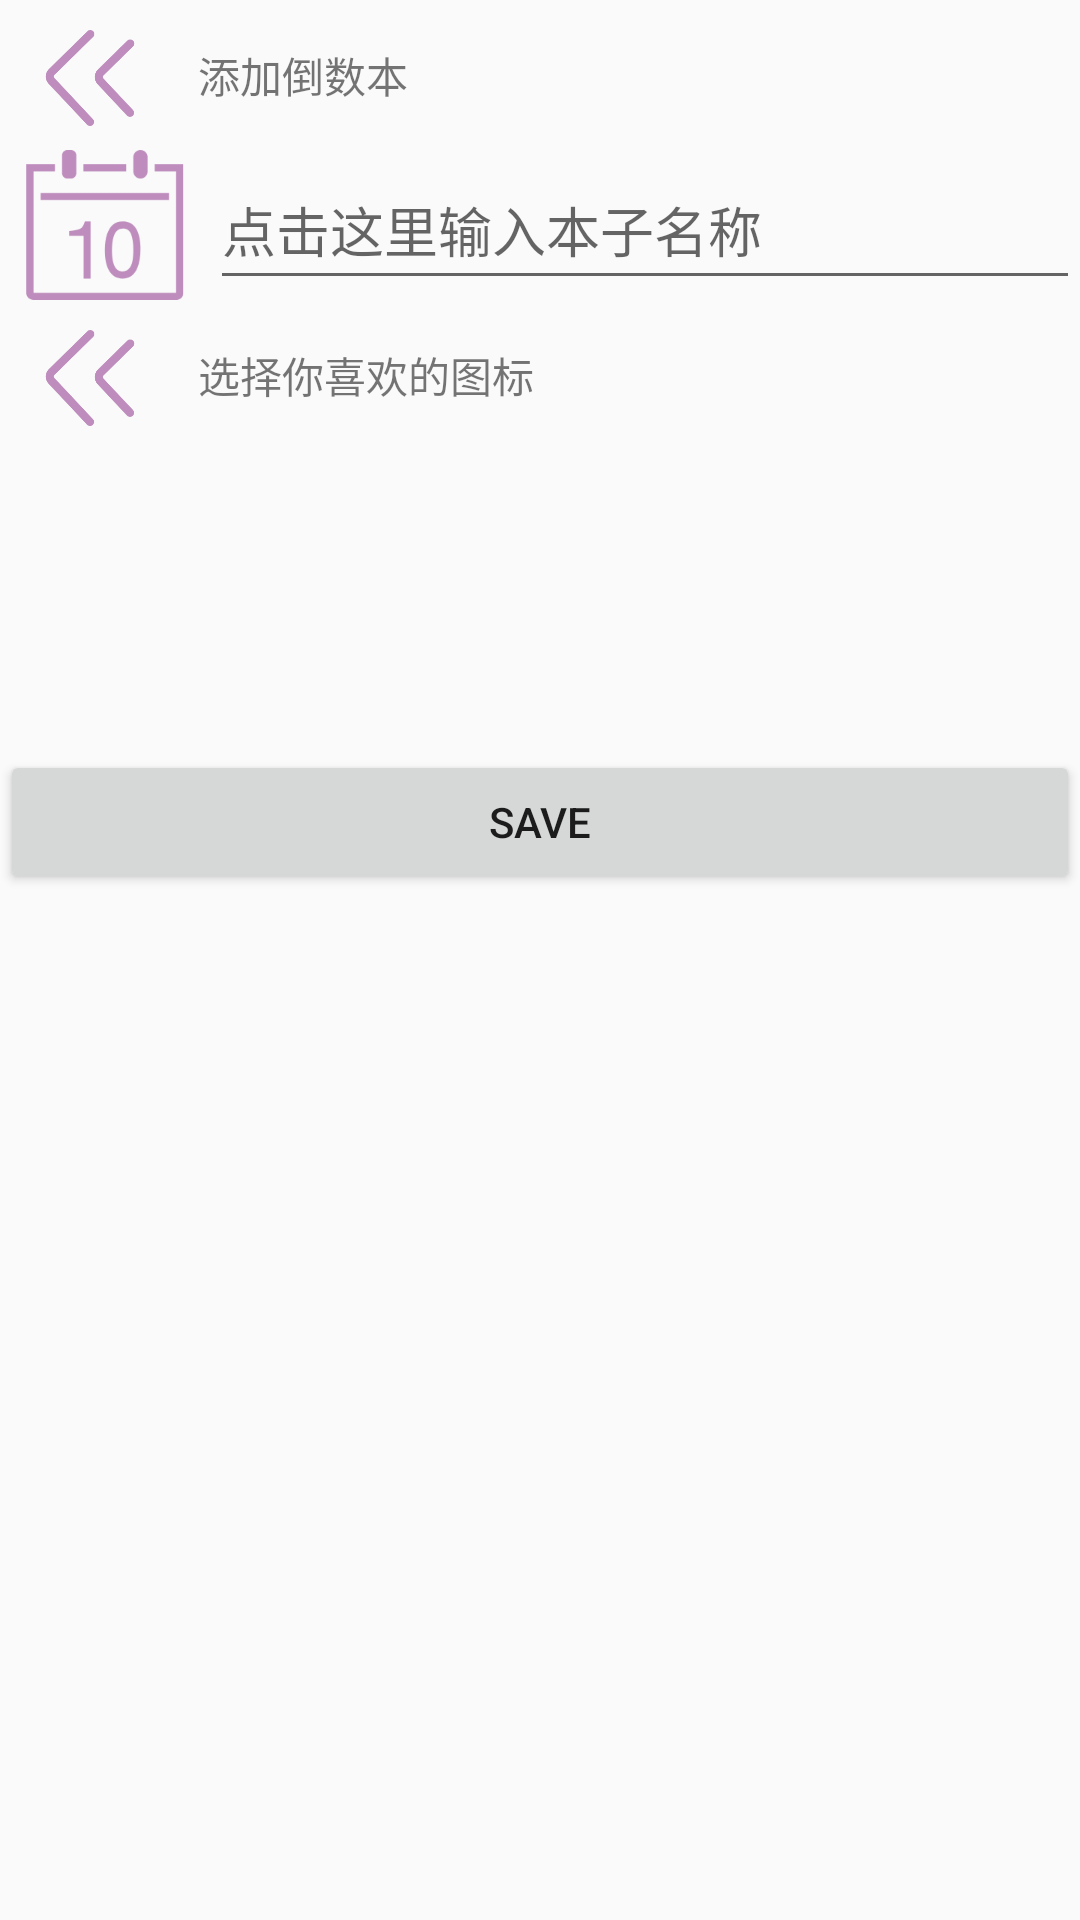

Icon click points for this 1080×1920 phone screenshot, format (x=x, y=y):
back: (x=90, y=78), (x=90, y=378)
event: (x=104, y=225)
